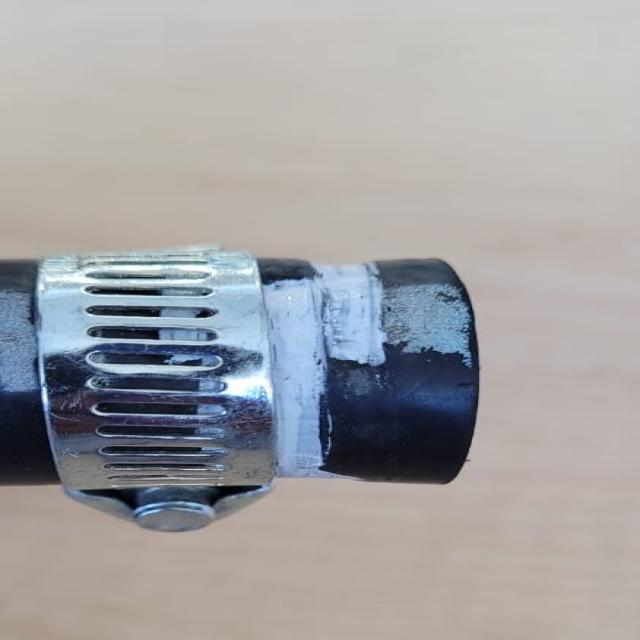clamp: (40, 251, 269, 535)
pipe: (268, 259, 463, 483)
